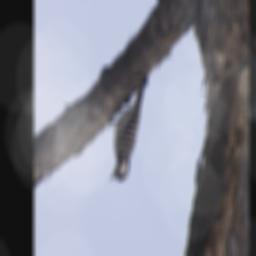Woodpecker: (105, 70, 151, 187)
